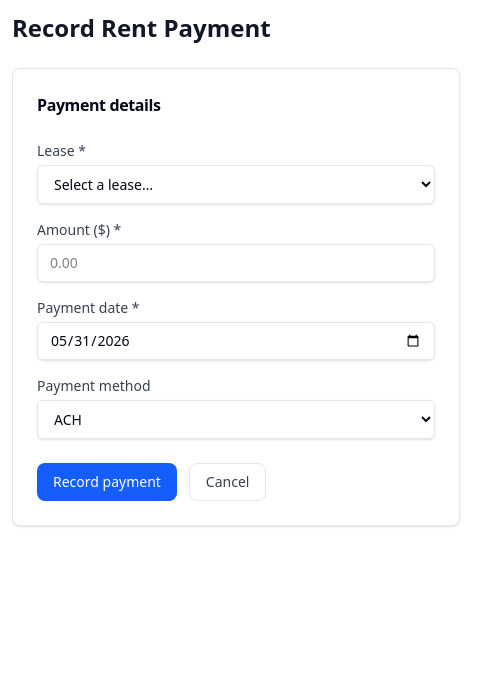
it: RentCollectionPage › shows E4 (server-error) with generic Try again button
Select "Maria Santos — 150 Lexington Ct ($1,250/mo)" in the dropdown labelled "Lease *" at point(236, 184), box 37,165 -> 435,204
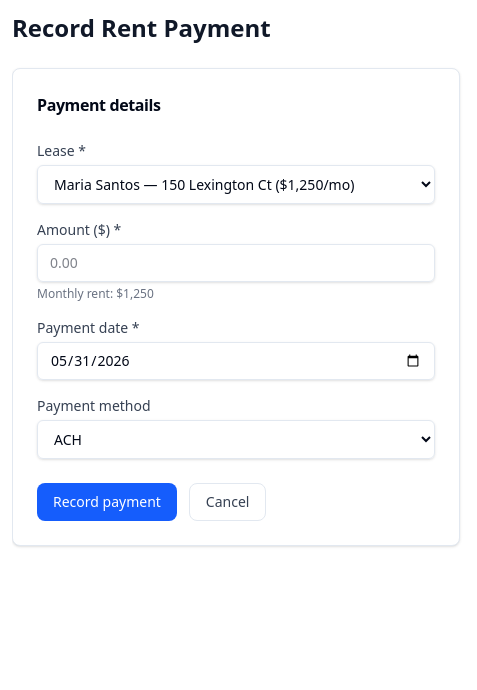
Type "1250" into the number field labelled "Amount ($) *" at point(236, 263), box 37,244 -> 435,282
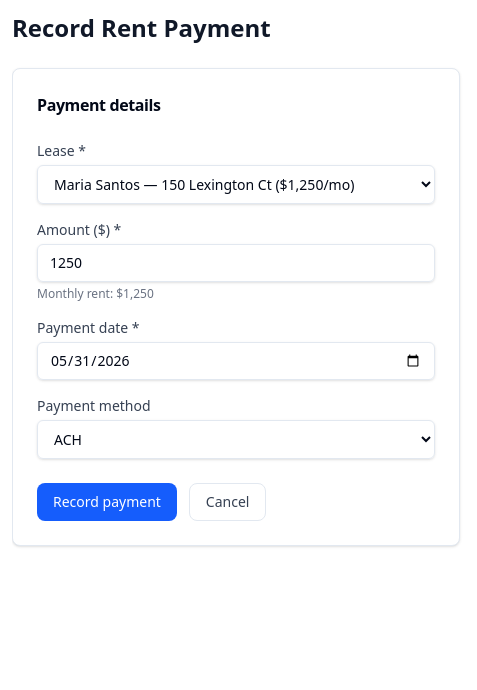
Submit the form named "record payment", box 37,141 -> 435,521
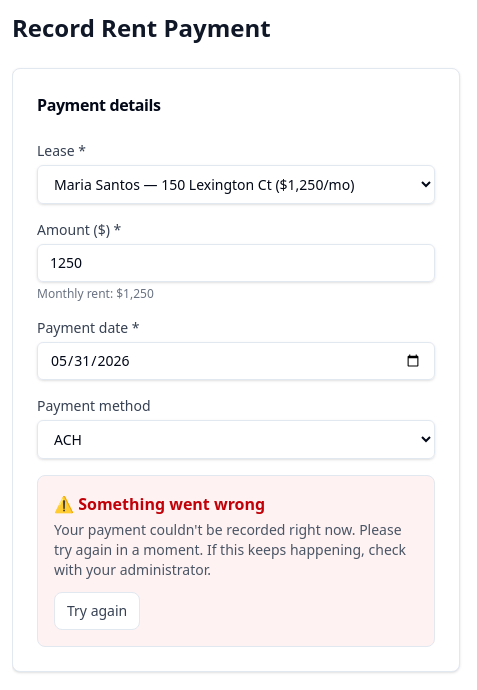
Expected: the message is shown, 37,475 -> 435,647
Expected: the text "⚠ Something went wrong" is shown, 54,493 -> 265,515
Expected: the button "Try again" is shown, 54,592 -> 140,630
